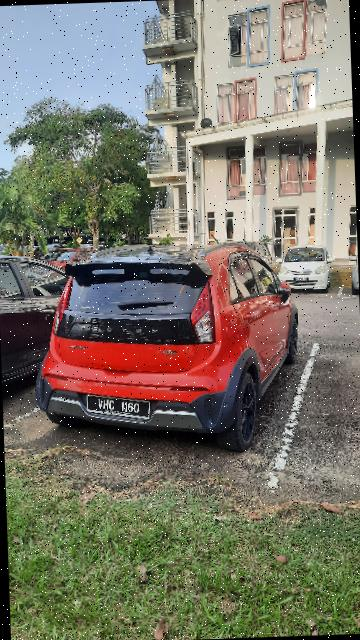License_Plate: (86, 385, 157, 428), (295, 276, 311, 283)
car: (29, 244, 307, 458), (276, 238, 333, 296)
